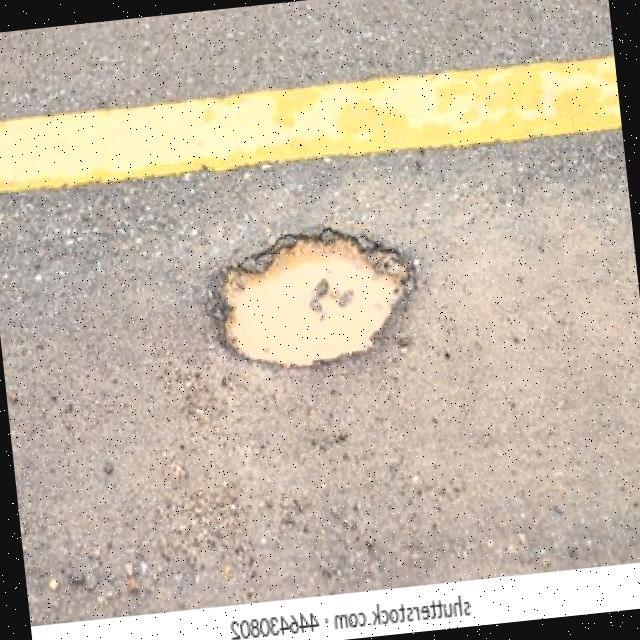Pothole: (221, 230, 417, 368)
